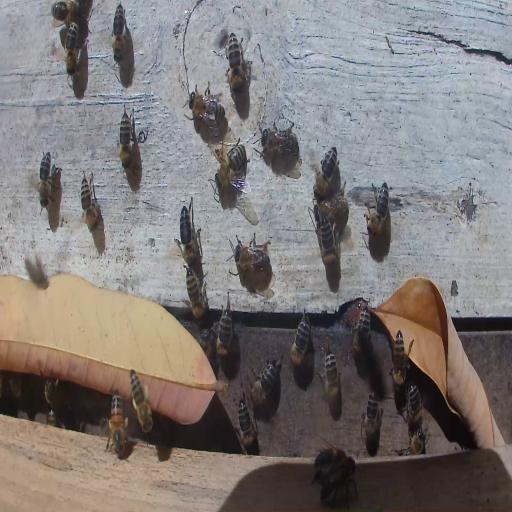nonpollenbee: (248, 351, 283, 408), (322, 454, 358, 505), (232, 236, 273, 278), (175, 198, 200, 266), (212, 145, 249, 190), (188, 89, 226, 131), (260, 126, 298, 168), (312, 439, 348, 480), (365, 181, 391, 236), (322, 343, 343, 408), (226, 36, 250, 92), (80, 171, 102, 231), (317, 215, 339, 273), (310, 192, 348, 225), (350, 305, 374, 357), (314, 147, 338, 197), (236, 397, 257, 454), (362, 390, 382, 447), (290, 311, 310, 367), (184, 270, 206, 320), (118, 106, 133, 172), (394, 331, 408, 399), (217, 302, 233, 357), (112, 3, 126, 63), (62, 23, 78, 74), (38, 150, 52, 208), (51, 2, 83, 26), (406, 382, 422, 430), (406, 428, 427, 454), (44, 379, 58, 409), (46, 407, 61, 426), (99, 414, 111, 434)
pollenbee: (130, 368, 154, 434), (109, 389, 128, 457)
